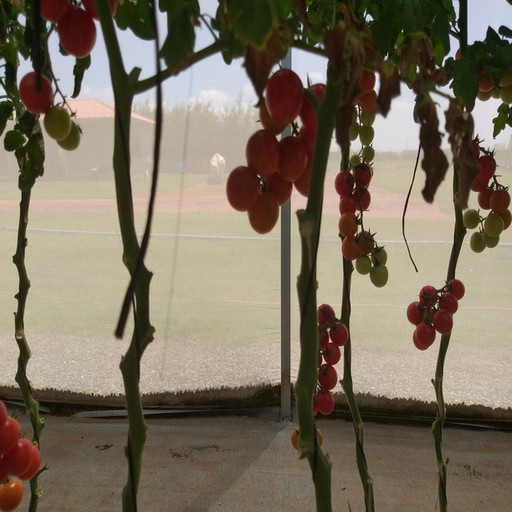mixed tomato bunch: (21, 1, 117, 152), (337, 164, 389, 282), (459, 143, 512, 250), (449, 38, 512, 102), (343, 65, 378, 167)
red tomato bunch: (226, 68, 329, 234), (293, 304, 349, 447), (1, 395, 45, 501), (407, 278, 464, 350)
